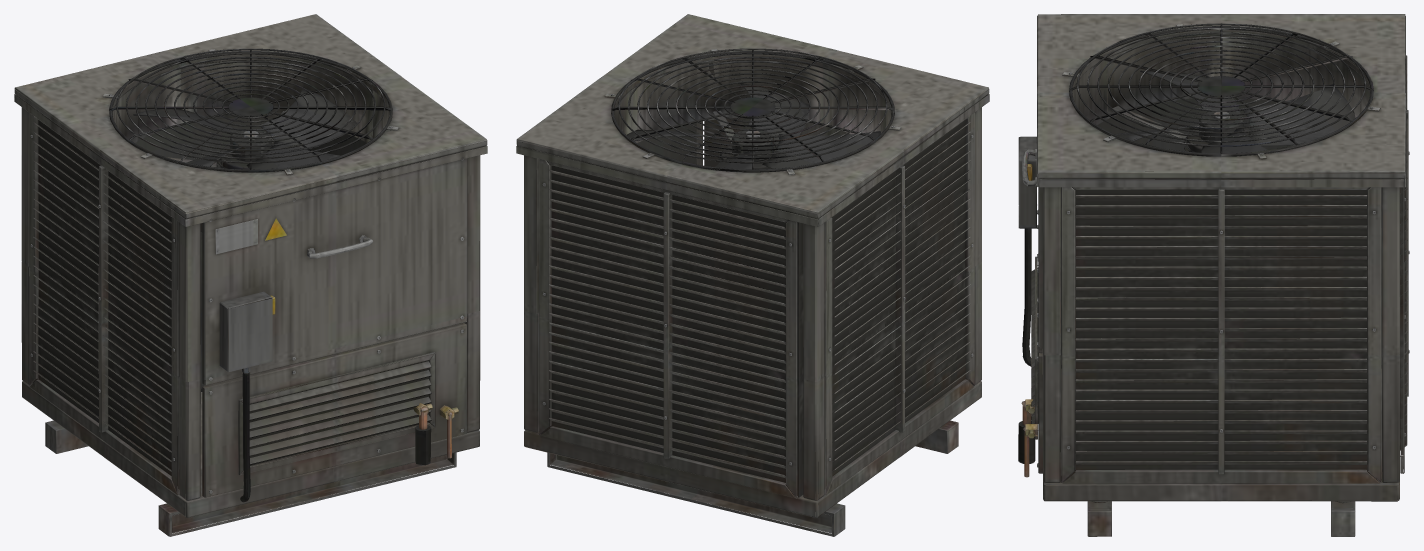
Rendered from preview.glb.
The picture shows the model from 3 angles, left to right: view 1: azimuth 30°, elevation 25°; view 2: azimuth 150°, elevation 25°; view 3: azimuth 270°, elevation 25°; orthographic projection. The views are drawn at different scales.
Parts seen in each view (by area): view 1: SM_OCK_RoofAC_B_Housing, SM_OCK_RoofAC_B_Coil, SM_OCK_RoofAC_B_Mech; view 2: SM_OCK_RoofAC_B_Coil, SM_OCK_RoofAC_B_Housing, SM_OCK_RoofAC_B_Mech; view 3: SM_OCK_RoofAC_B_Coil, SM_OCK_RoofAC_B_Housing, SM_OCK_RoofAC_B_Mech.
Boxes of the visible parts, x1,y1,x2,y2 form: SM_OCK_RoofAC_B_Housing: (14, 14, 487, 517); SM_OCK_RoofAC_B_Coil: (29, 113, 458, 495); SM_OCK_RoofAC_B_Mech: (45, 48, 458, 536); SM_OCK_RoofAC_B_Coil: (539, 104, 974, 498); SM_OCK_RoofAC_B_Housing: (516, 14, 989, 517); SM_OCK_RoofAC_B_Mech: (547, 48, 958, 536); SM_OCK_RoofAC_B_Coil: (1061, 55, 1409, 483); SM_OCK_RoofAC_B_Housing: (1021, 14, 1405, 501); SM_OCK_RoofAC_B_Mech: (1018, 23, 1381, 536).
Size of the model in its own units: 0.9291 by 1.03 by 0.9661.
Materials: 3 (3 with a texture image).
